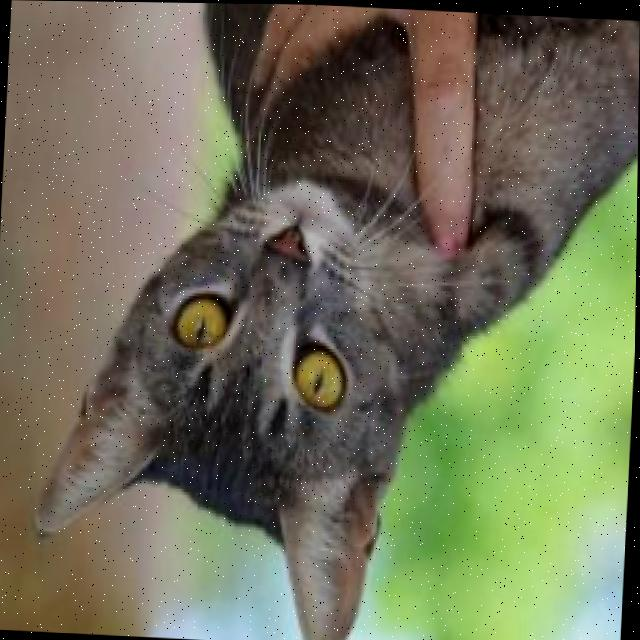Abyssinian: (24, 0, 640, 640)
